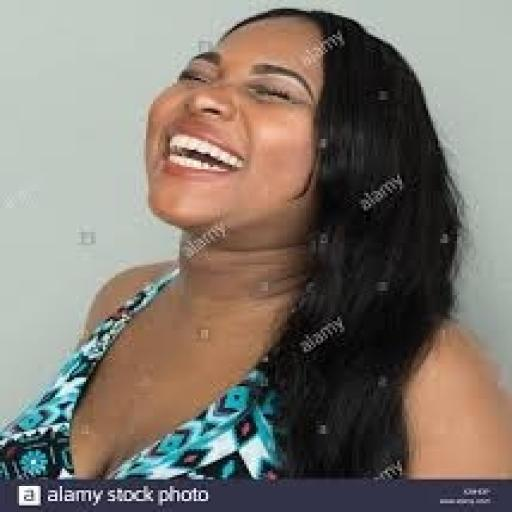laughing: (0, 2, 510, 480)
